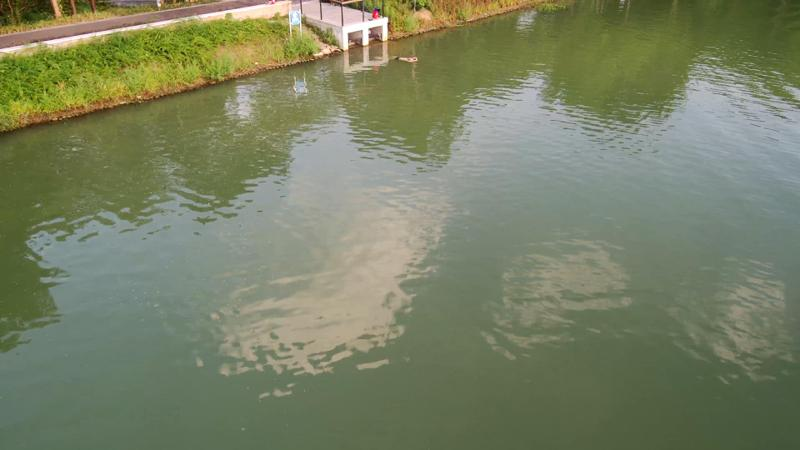swimmers: (391, 55, 419, 64)
